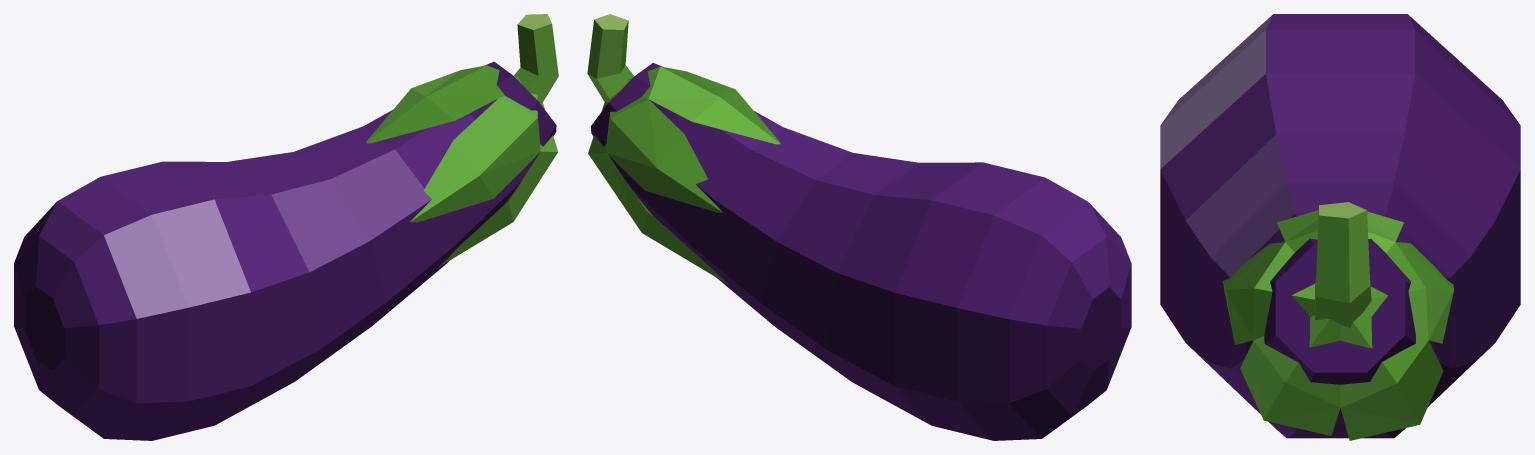
File: FMS_Veg_Eggplant.fbx
3 renders of one model, left to right at view 1: azimuth 30°, elevation 25°; view 2: azimuth 150°, elevation 25°; view 3: azimuth 270°, elevation 25°, orthographic. The views are drawn at different scales.
Visible parts, largest first — view 1: item_produce_eggplant; view 2: item_produce_eggplant; view 3: item_produce_eggplant.
Part boxes in pixels (<box>): item_produce_eggplant: <box>14,14,558,440</box>; item_produce_eggplant: <box>587,14,1131,440</box>; item_produce_eggplant: <box>1160,14,1520,440</box>.
Size of the model in its own units: 0.2057 by 0.1161 by 0.0868.
1 material, 1 textured.
